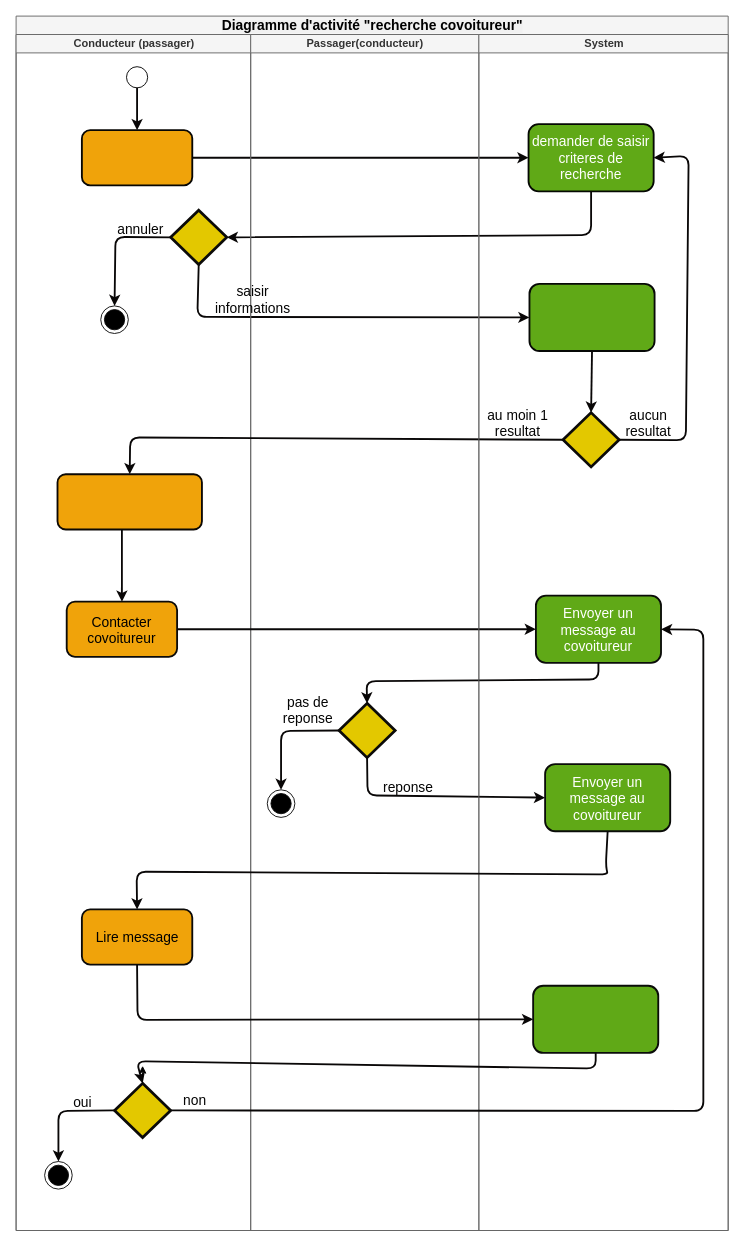
This 744x1247 diagram has some shape labels left out. The centre of each missing label's shape, as x and y in pixels:
Afficher covoitutreur disponibles: point 591,316
consulter profil covoitureur: point 129,501
fin de conversation: point 595,1018
recherche de covoitureur: point 136,157
